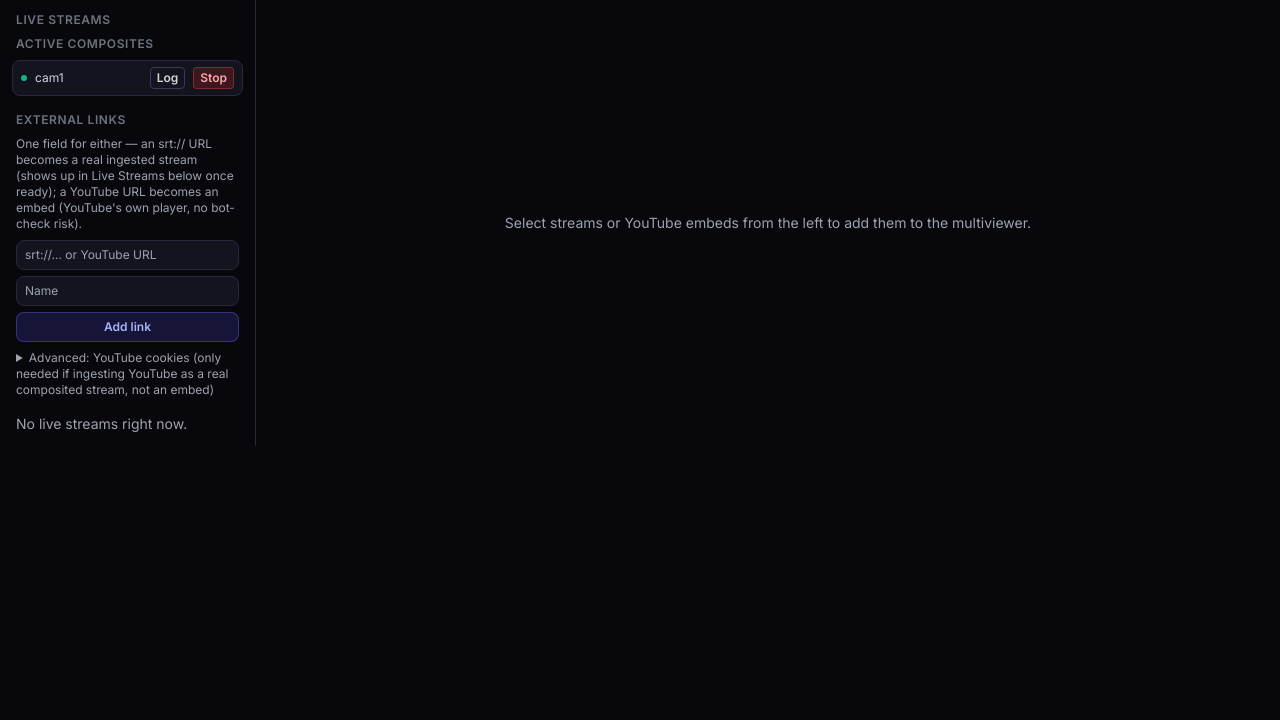
Test: MultiviewerPage › shows the composite job log for an admin
Step 1. Click the button "Log" → (168, 78), box [150, 67, 185, 89]
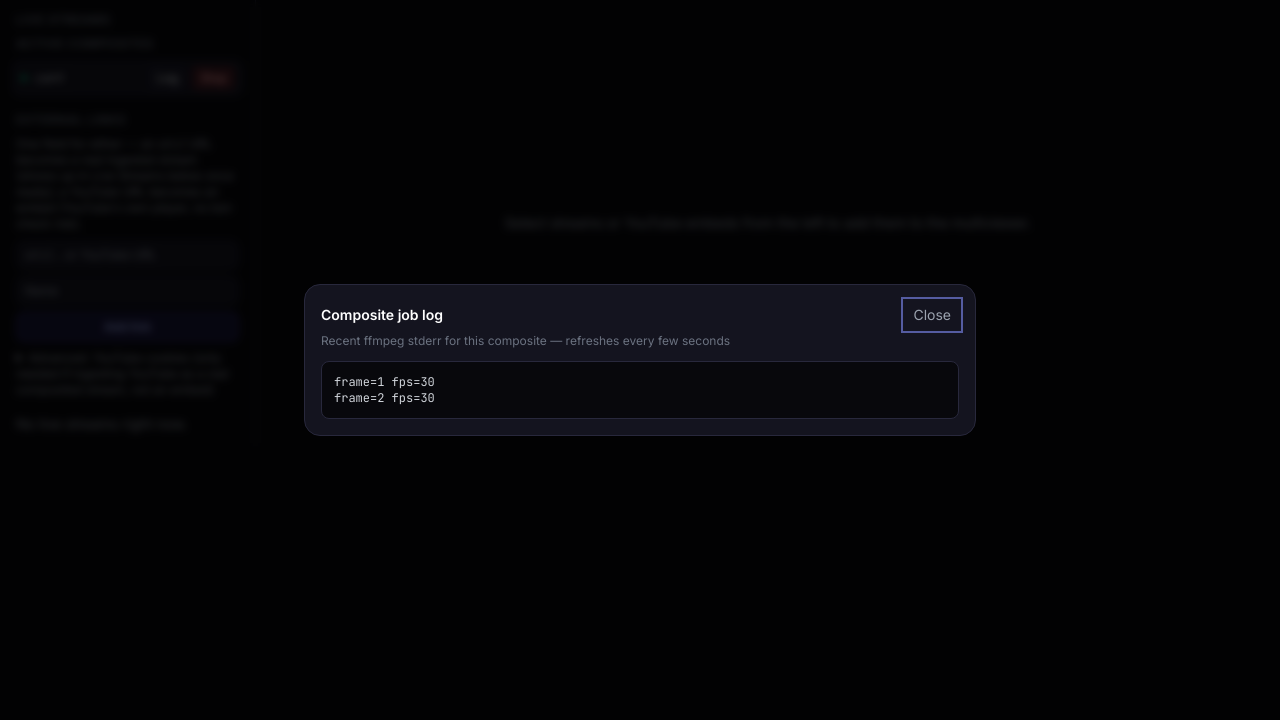
Now the text "frame=1 fps=30 frame=2 fps=30" is shown, box [321, 361, 959, 419]
Step 2. Click the button "Close" → (932, 315), box [905, 301, 959, 329]
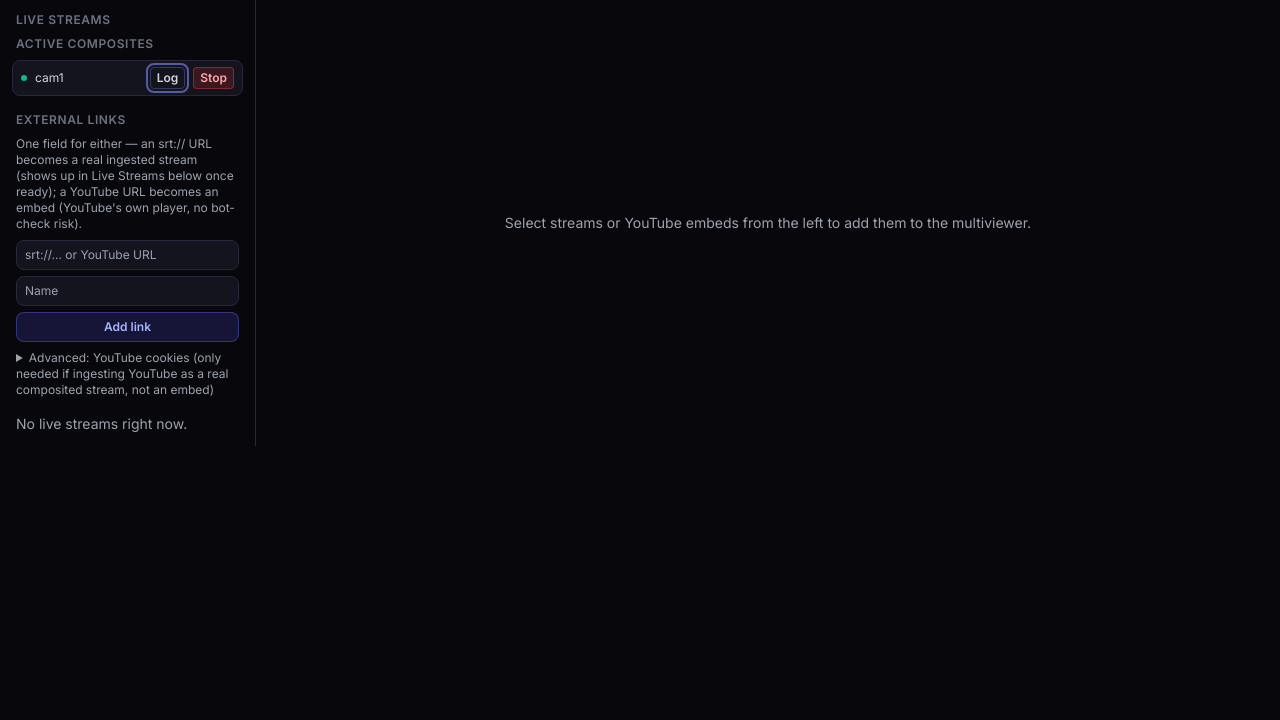
Now the text "frame=1 fps=30" is gone
